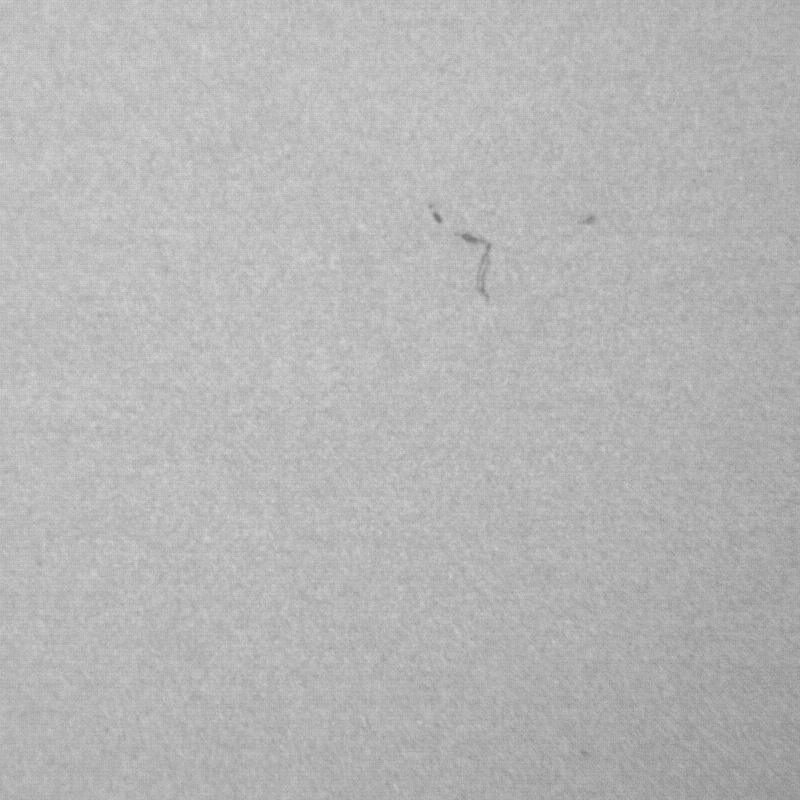defect: (428, 203, 495, 304), (567, 211, 599, 228)
